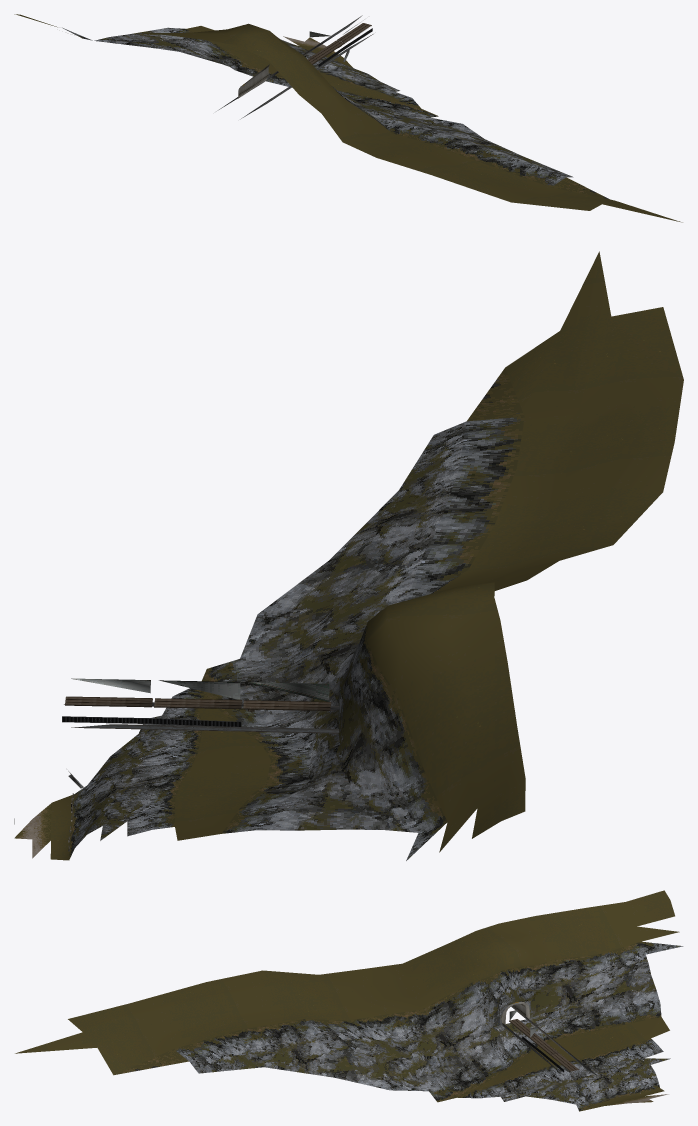
Rendered from world_camden_10_-11.gltf.
3 views of the same model, one above another, from view 1: azimuth 30°, elevation 25°; view 2: azimuth 150°, elevation 25°; view 3: azimuth 270°, elevation 25° (orthographic). The views are drawn at different scales.
Bounding box in the file's own units: 142 × 48.15 × 286.
Materials: 15 (15 with a texture image).
